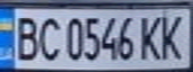0: (60, 14, 84, 62)
4: (100, 14, 121, 61)
5: (81, 14, 103, 62)
6: (115, 12, 139, 61)
B: (9, 12, 42, 62)
C: (33, 14, 63, 62)
K: (157, 11, 190, 61), (136, 12, 166, 62)
